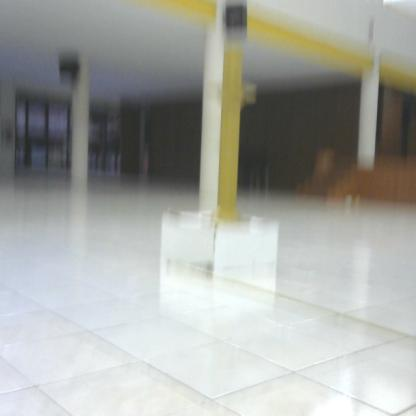pole: (207, 42, 261, 228)
